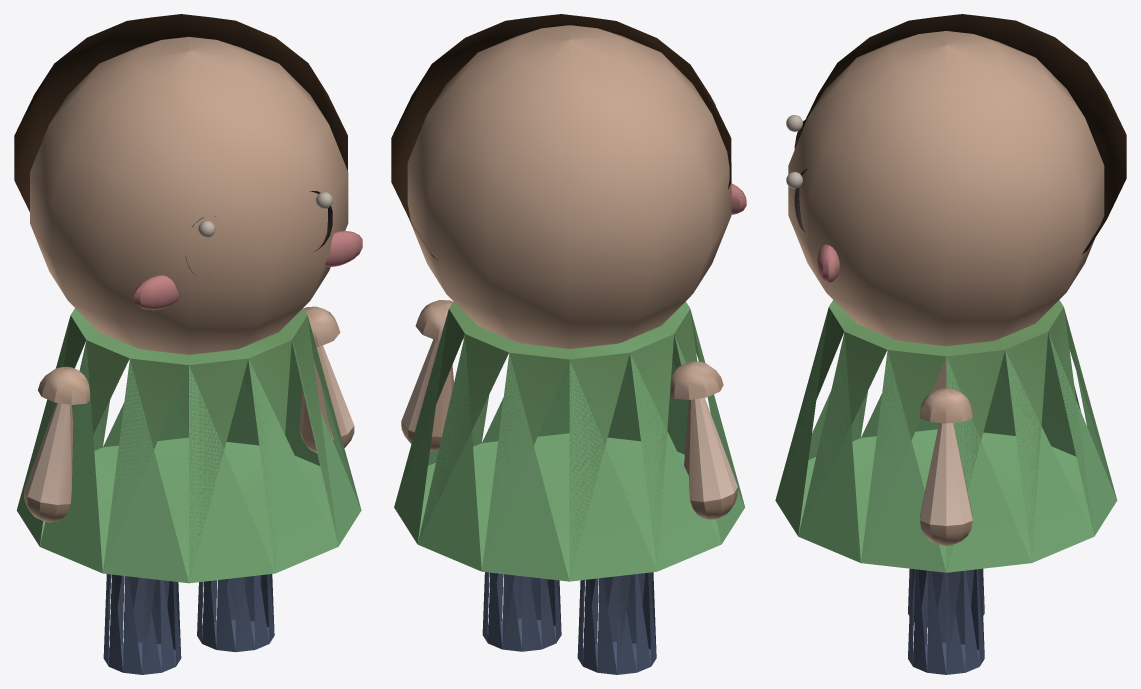
3 renders of one model, left to right at view 1: azimuth 30°, elevation 25°; view 2: azimuth 150°, elevation 25°; view 3: azimuth 270°, elevation 25°, orthographic. The views are drawn at different scales.
Visible parts, largest first — view 1: pet_p66f6226b; view 2: pet_p66f6226b; view 3: pet_p66f6226b.
Part boxes in pixels (<box>): pet_p66f6226b: <box>14,14,362,674</box>; pet_p66f6226b: <box>391,14,746,674</box>; pet_p66f6226b: <box>775,14,1126,674</box>.
Bounding box in the file's own units: 0.3464 × 0.625 × 0.3287.
